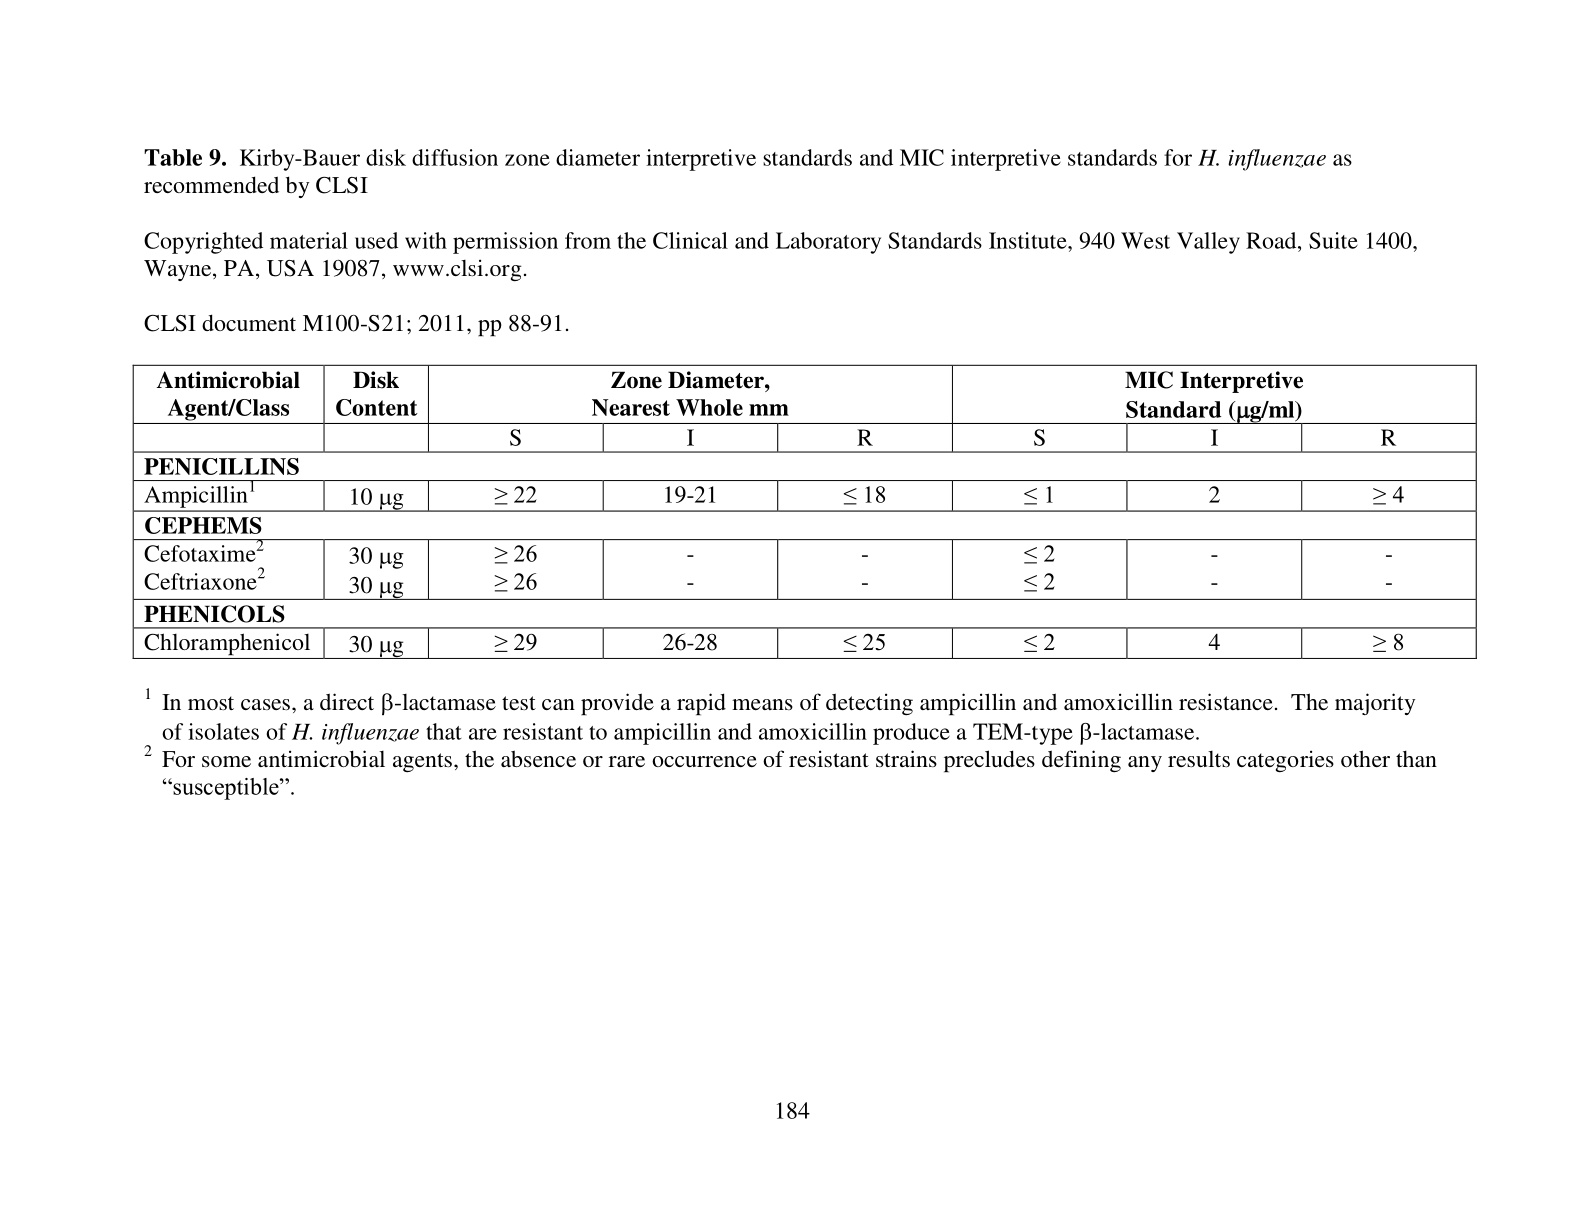merged_cells: (132, 364, 1477, 660)
